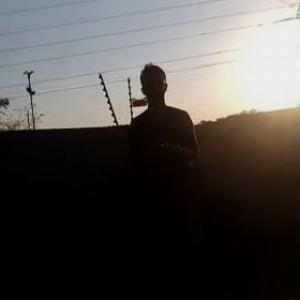follow: (129, 61, 209, 299)
